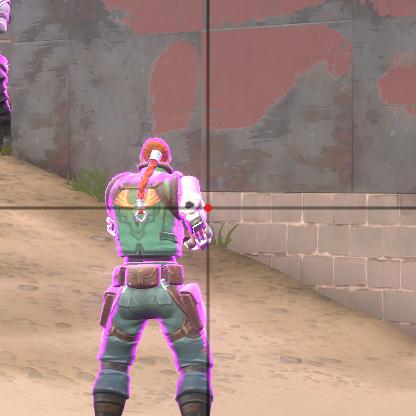enemyBody: (118, 191, 192, 305)
enemyHead: (144, 132, 178, 172)
